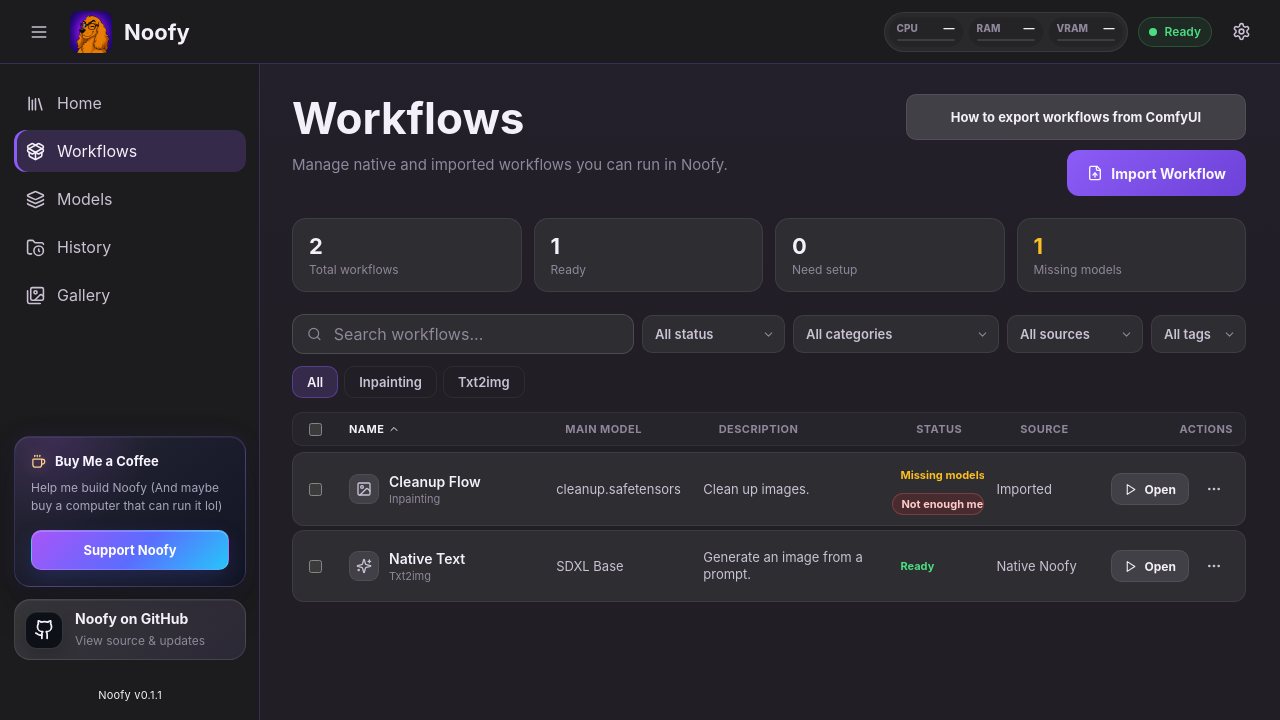
Scenario: WorkflowsPage › selects all filtered workflows and clears the selection
This screenshot has width=1280, height=720.
expect the text "Cleanup Flow" is shown: met, box [389,473,481,490]
Type "cleanup" into the search field with placeholder "Search workflows...". click: (475, 334)
box: [332,323,619,345]
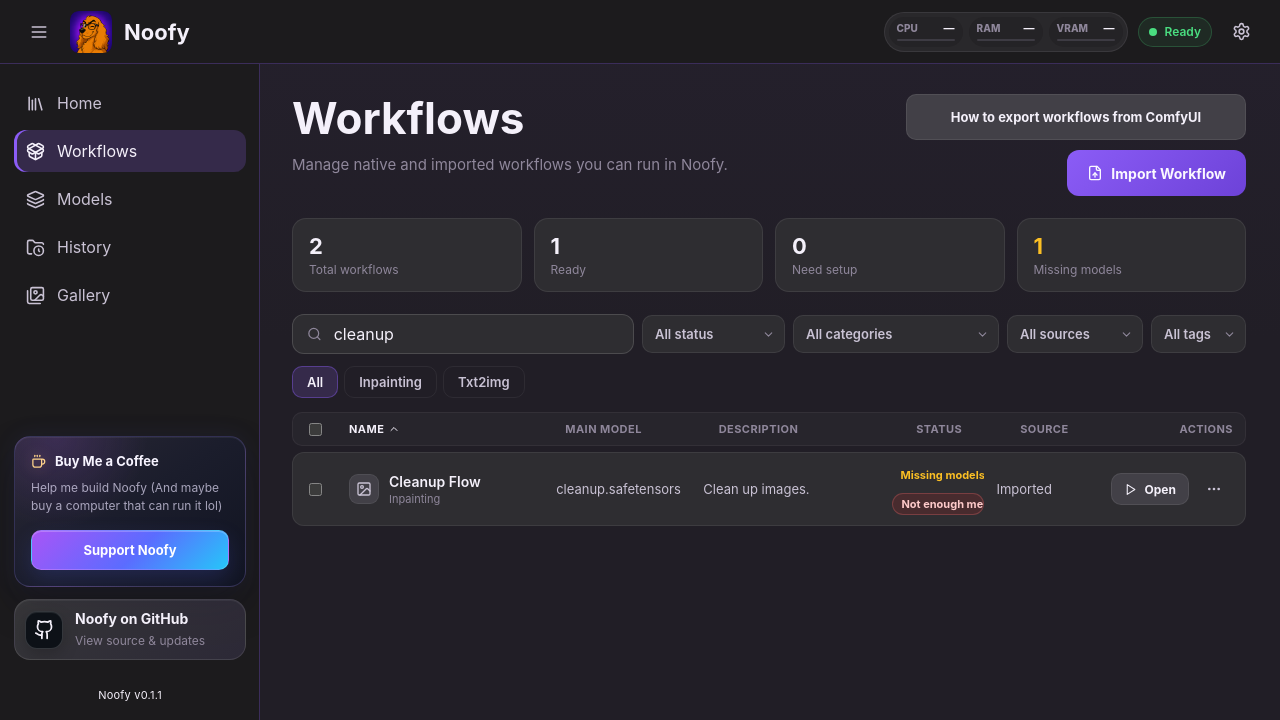
Click the checkbox named "Select all workflows". click: (316, 429)
box: [309,423,322,436]
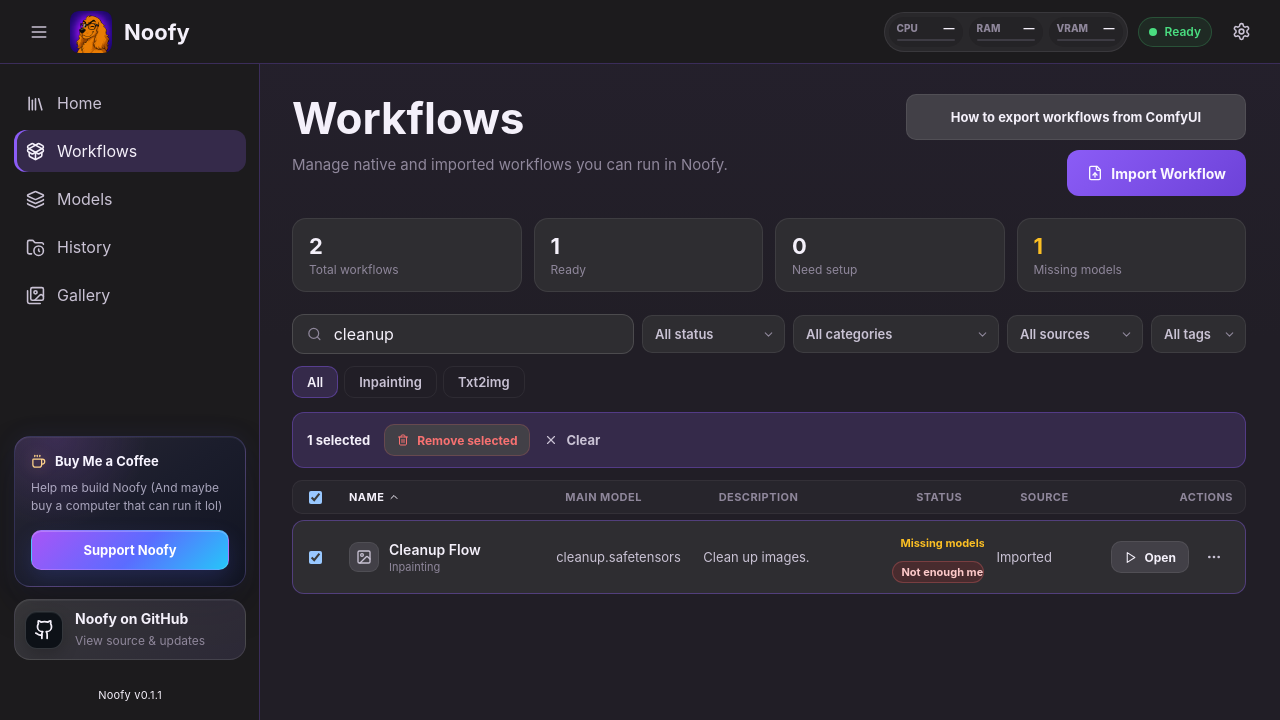
expect the checkbox named "Select Cleanup Flow" is checked: met, box [309,551,322,564]
expect the text "1 selected" is shown: met, box [307,432,370,448]
Click the button "Clear". click: (572, 440)
box: [540,423,604,457]
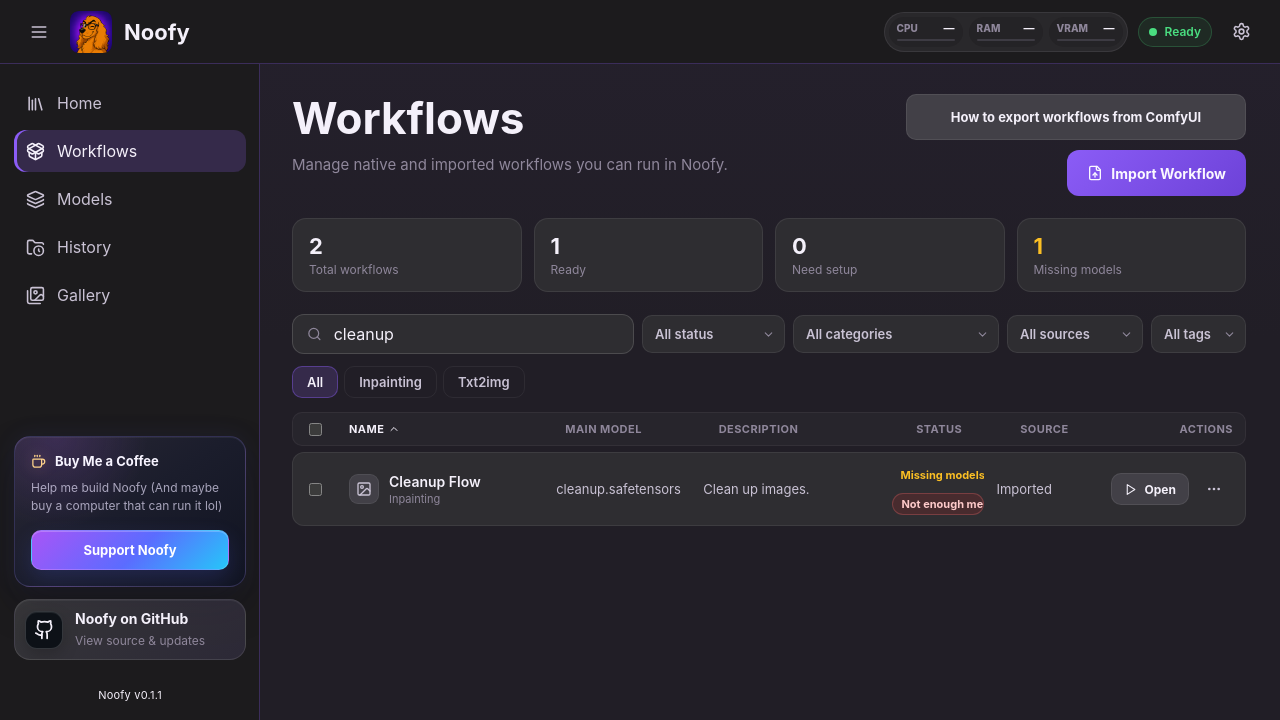
expect the text "1 selected" is gone: met
